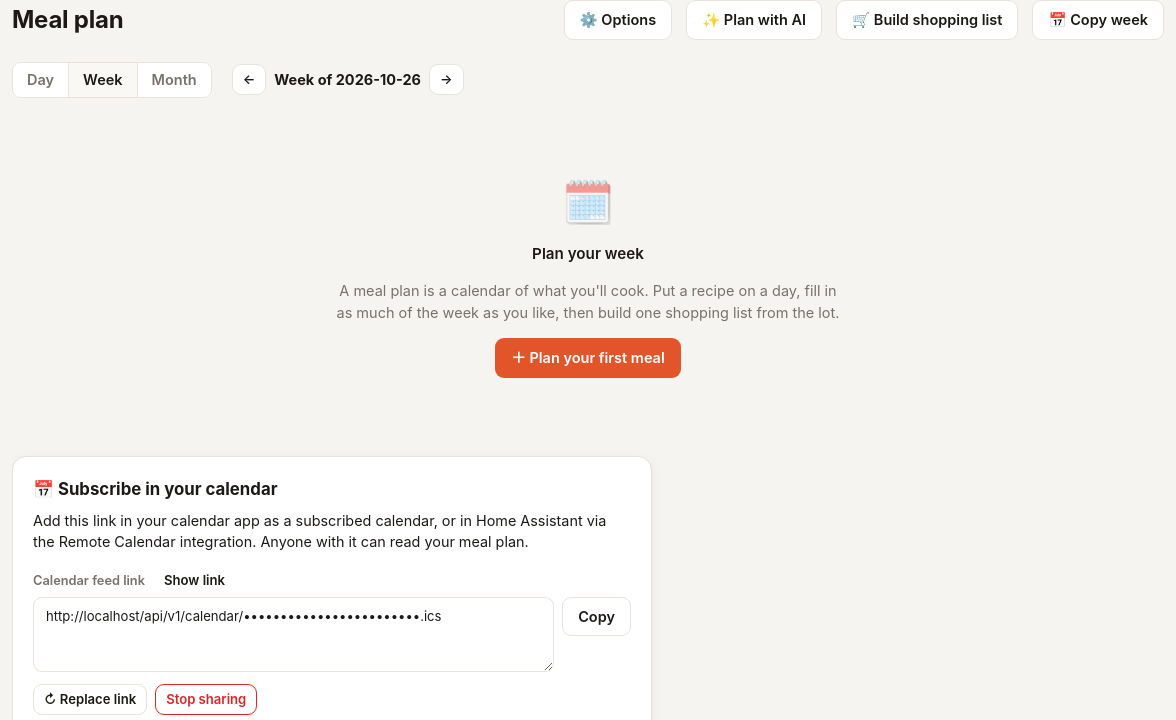
Test: meal plan calendar subscription › confirming stop clears the url and returns to first run
What coordinates should you click on to do the following:
click the button "Stop sharing"
I would click on:
 (206, 700)
Its box is [155,684,257,715].
(page scrolled)
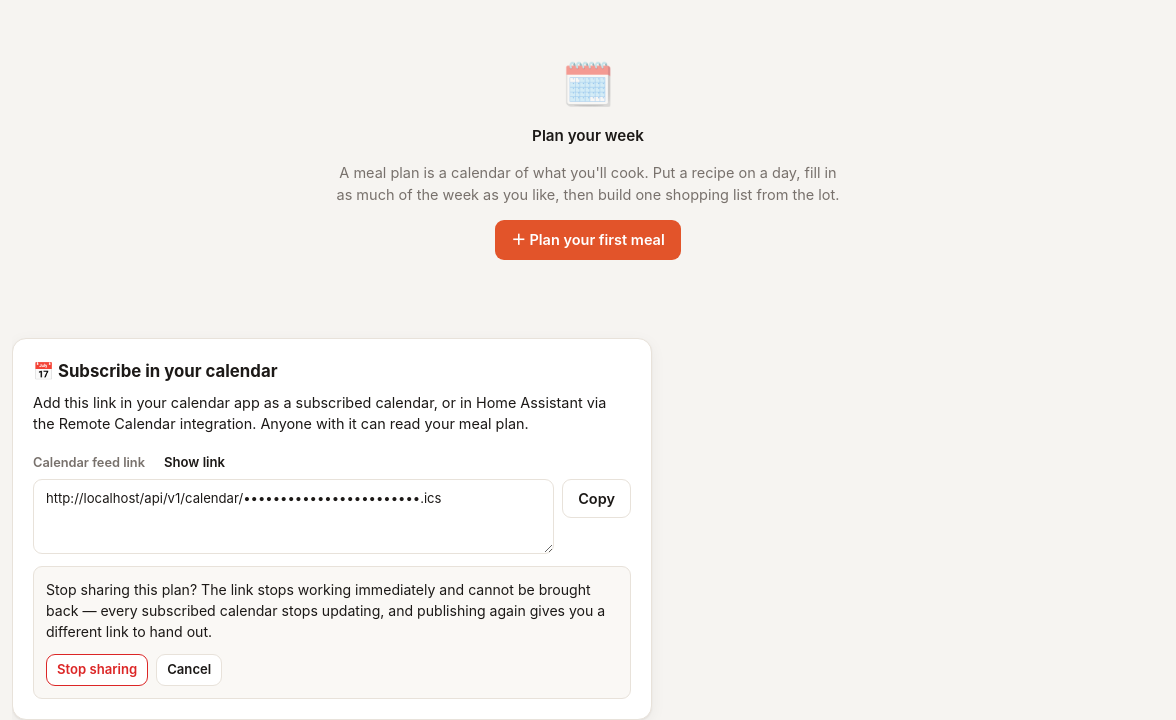
What coordinates should you click on to do the following:
click the button "Stop sharing"
I would click on:
 (97, 670)
Its box is [46,654,148,686].
(page scrolled)
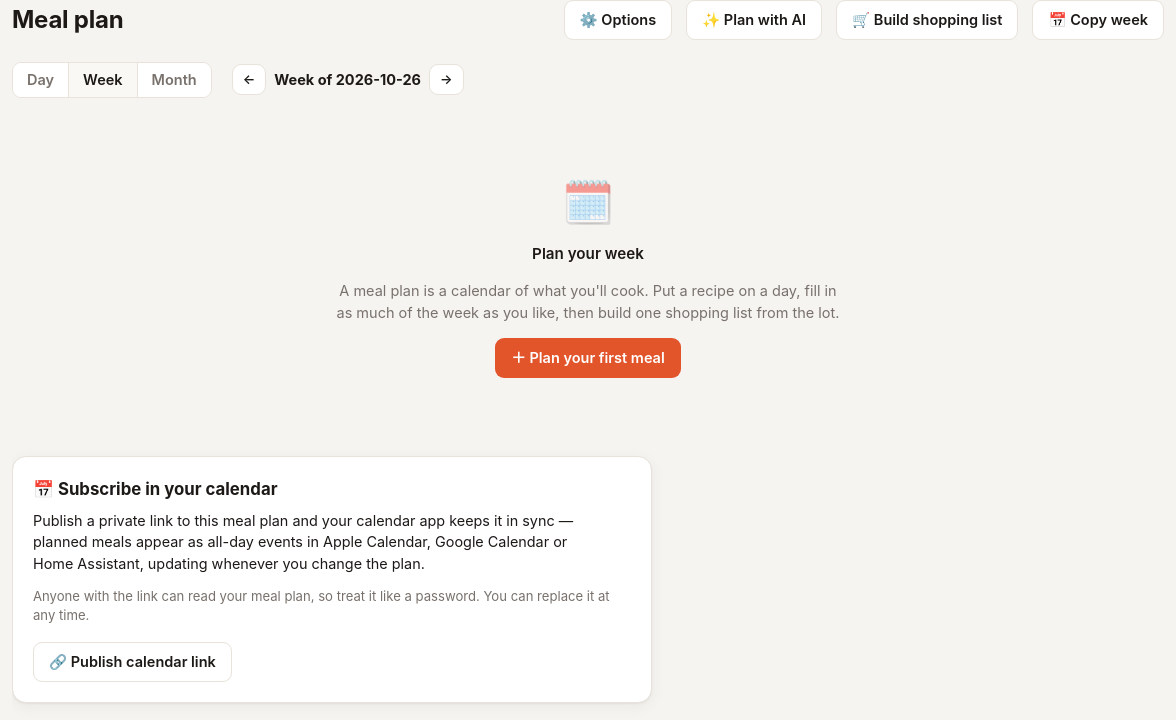
Check: the text "Publish calendar link" is shown, box [33,642,232,682]
